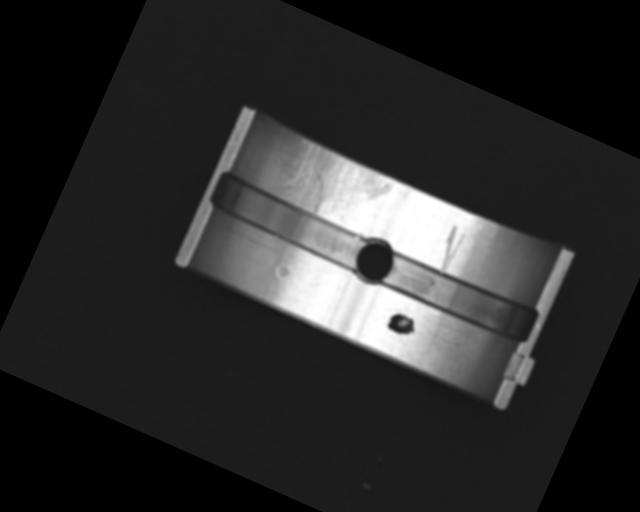blot: (385, 310, 420, 341)
bruise: (272, 260, 292, 282)
gap: (205, 168, 372, 273), (382, 250, 539, 347)
hole: (348, 233, 400, 290)
nick: (431, 224, 468, 277)
scratch: (272, 134, 397, 240)
